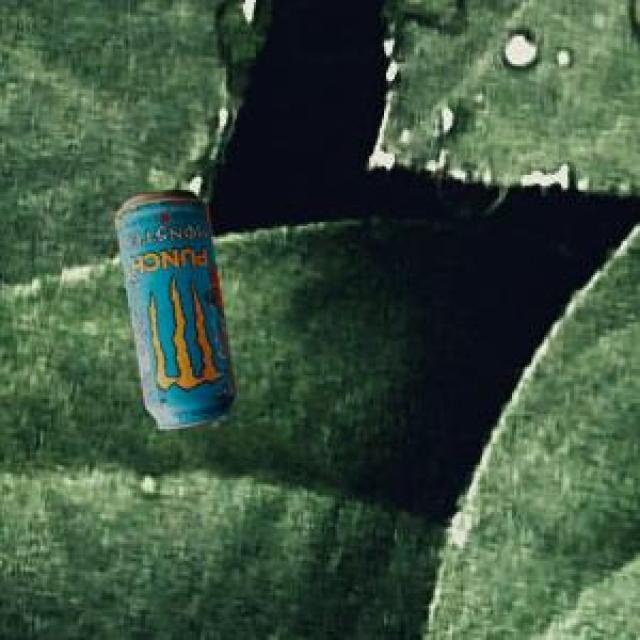Can: (112, 187, 234, 426)
